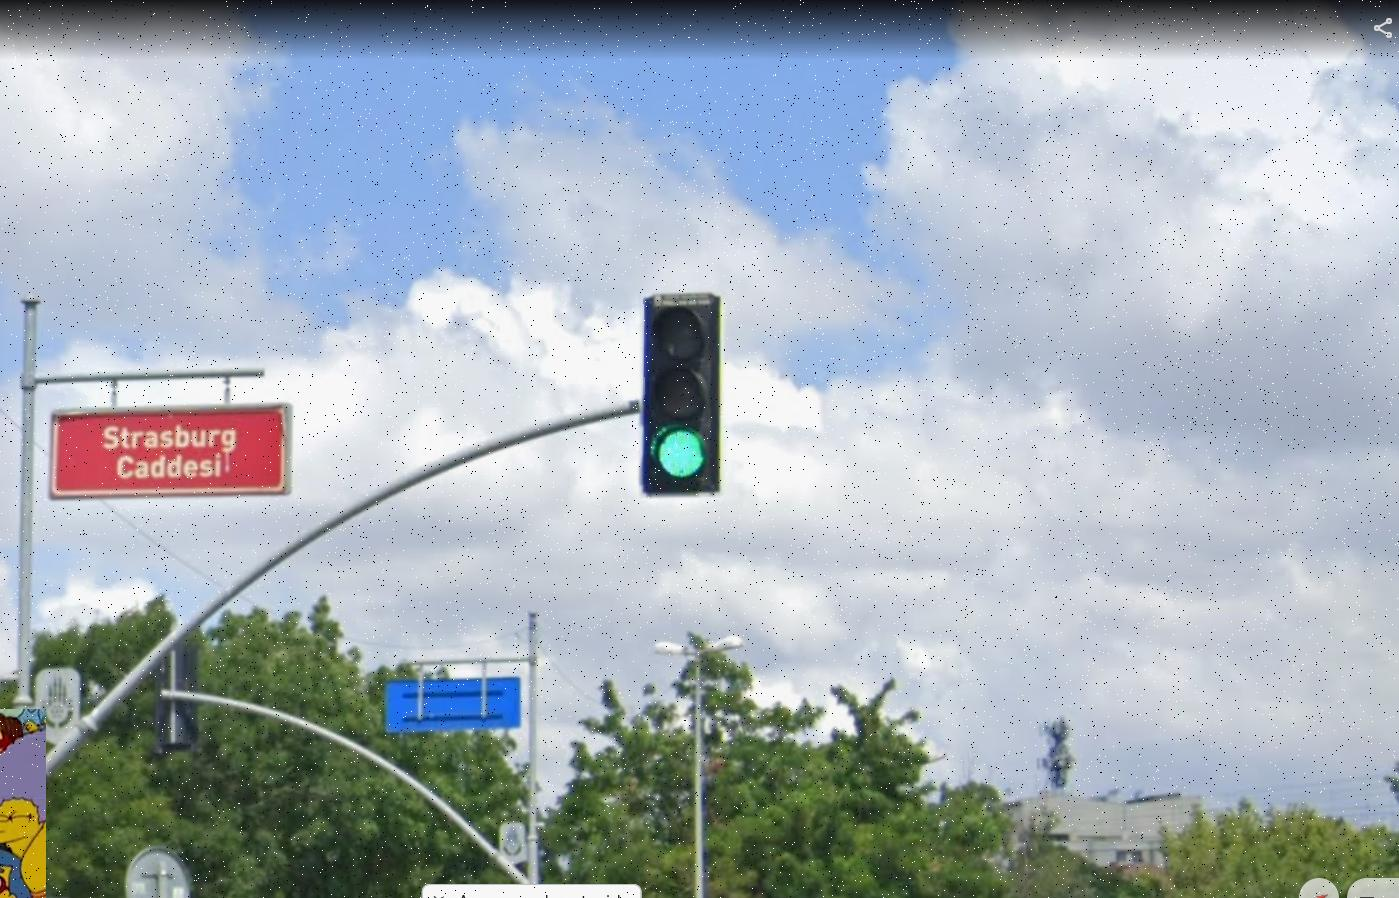greenlight: (643, 293, 716, 495)
